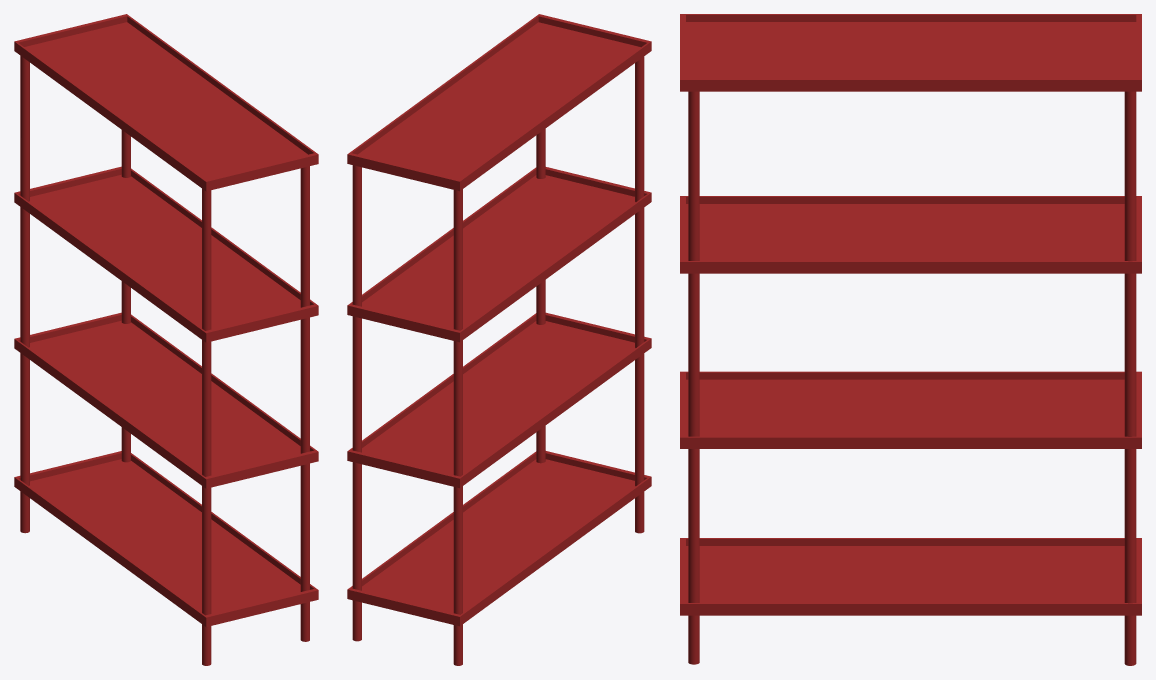
The model's file is SetoShelf.fbx.
3 renders of one model, left to right at view 1: azimuth 30°, elevation 25°; view 2: azimuth 150°, elevation 25°; view 3: azimuth 270°, elevation 25°, orthographic. The views are drawn at different scales.
Visible parts, largest first — view 1: Shelf; view 2: Shelf; view 3: Shelf.
Part boxes in pixels (x1,y1,x2,y2): Shelf: [14, 14, 318, 665]; Shelf: [347, 14, 651, 665]; Shelf: [680, 14, 1141, 665].
Bounding box in the file's own units: 61.12 × 253 × 180.
